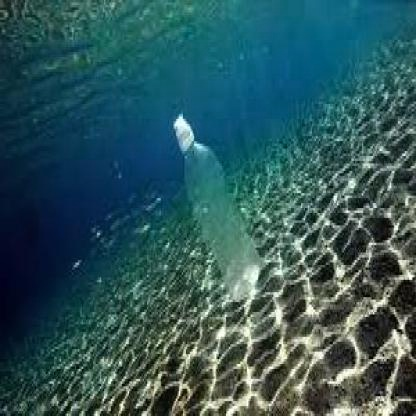pbottle: (154, 99, 265, 297)
